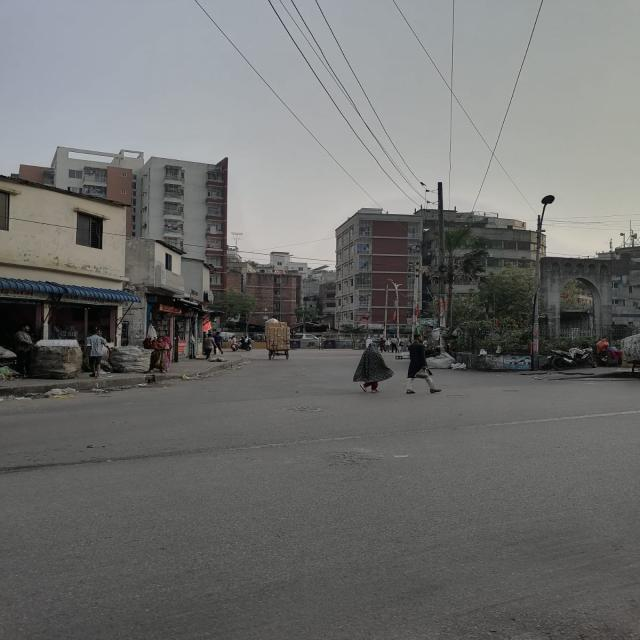person: (353, 341, 394, 393), (406, 334, 440, 395)
